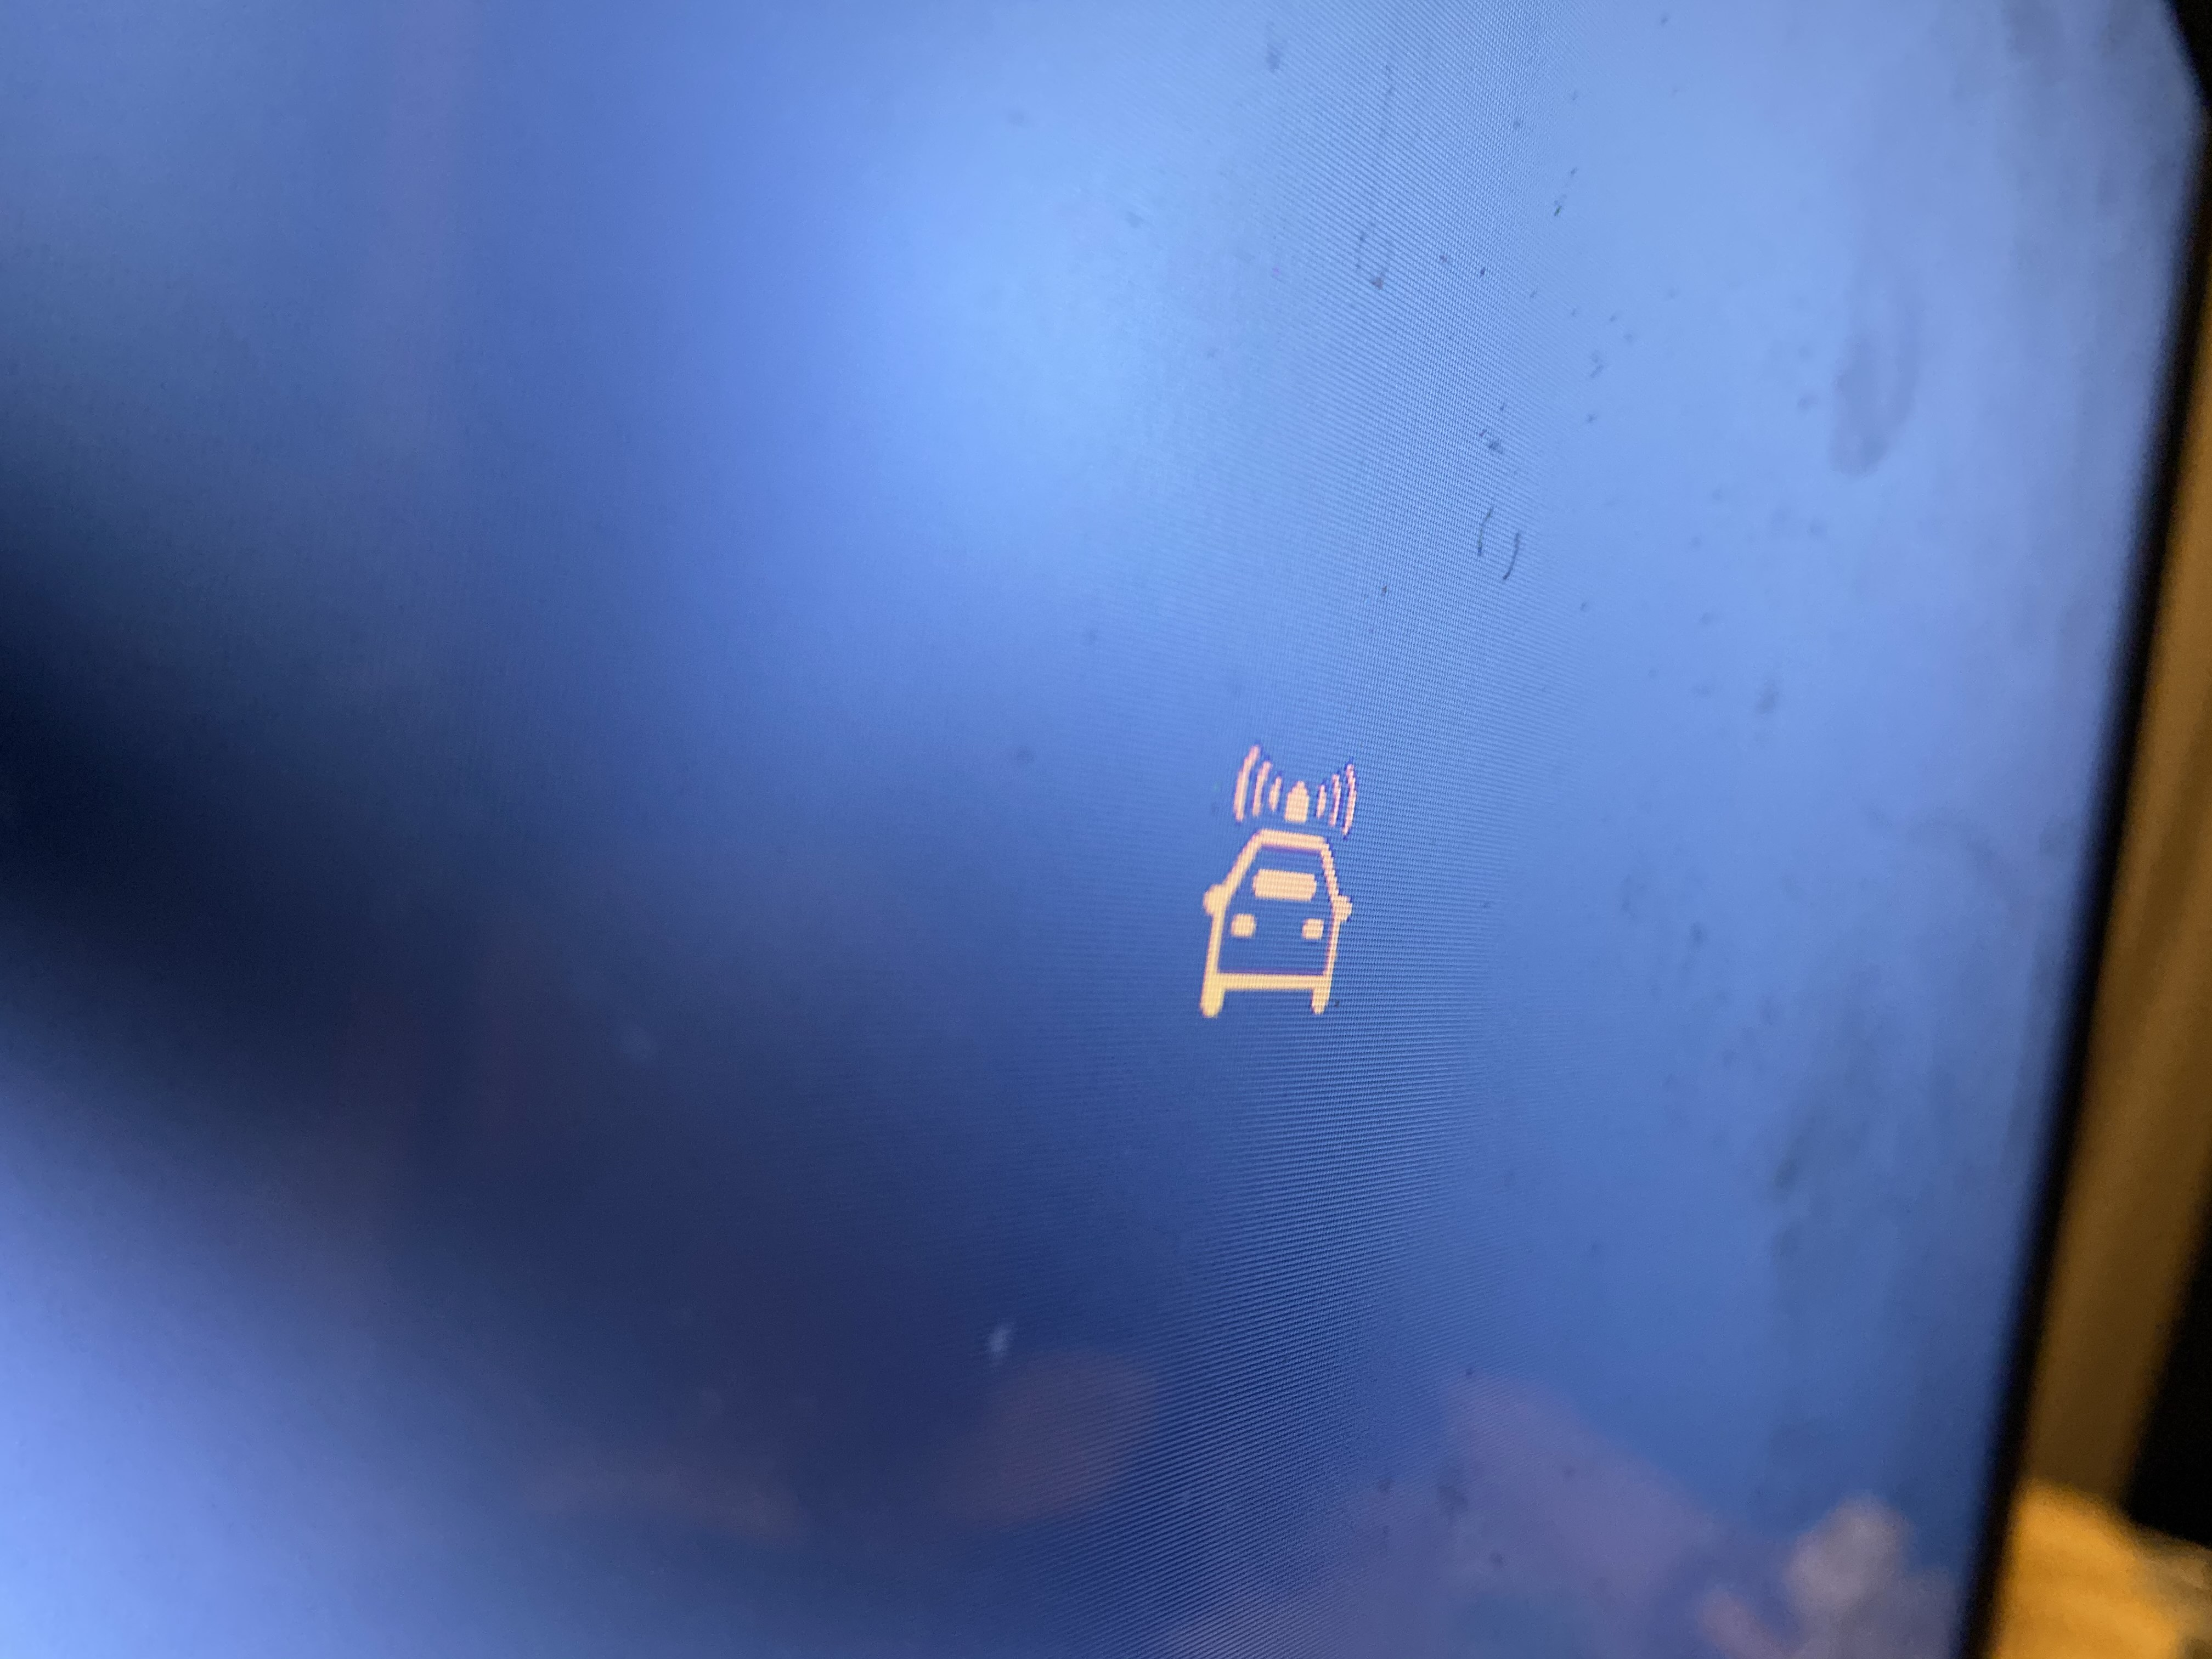SEV_INF: (1188, 720, 1393, 1056)
